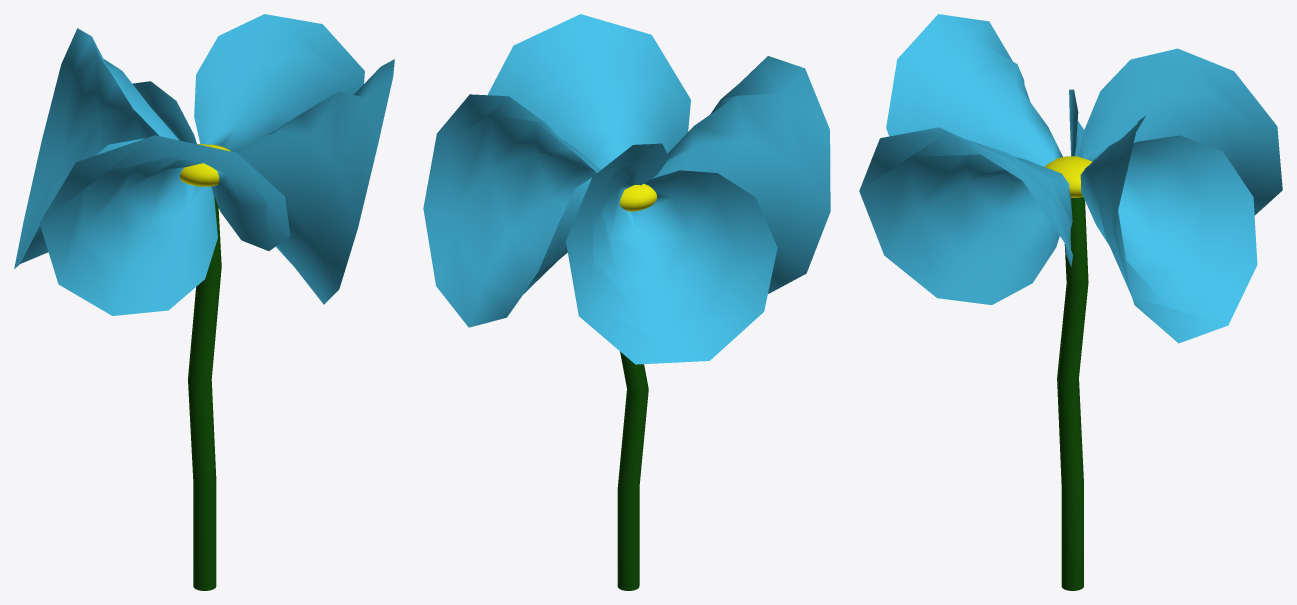
File: kolokol.glb
3 views of the same model, side by side, from view 1: azimuth 30°, elevation 25°; view 2: azimuth 150°, elevation 25°; view 3: azimuth 270°, elevation 25° (orthographic). The views are drawn at different scales.
Parts seen in each view (by area): view 1: Окружность, Окружность.001, Цилиндр, Сфера; view 2: Окружность.001, Окружность, Цилиндр, Сфера; view 3: Окружность.001, Окружность, Цилиндр, Сфера.
Part boxes in pixels (x1,y1,x2,y2): Окружность: (39, 14, 364, 315); Окружность.001: (14, 28, 394, 304); Цилиндр: (188, 193, 221, 590); Сфера: (180, 144, 230, 186); Окружность.001: (487, 14, 777, 364); Окружность: (423, 56, 830, 327); Цилиндр: (617, 351, 648, 590); Сфера: (619, 184, 656, 211); Окружность.001: (859, 48, 1282, 304); Окружность: (886, 14, 1257, 343); Цилиндр: (1057, 197, 1088, 590); Сфера: (1044, 156, 1092, 197).
Bounding box in the file's own units: 3.75 × 5.04 × 3.75.
